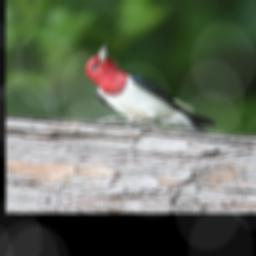Woodpecker: (77, 39, 226, 137)
